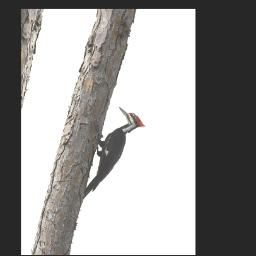Woodpecker: (83, 102, 148, 218)
